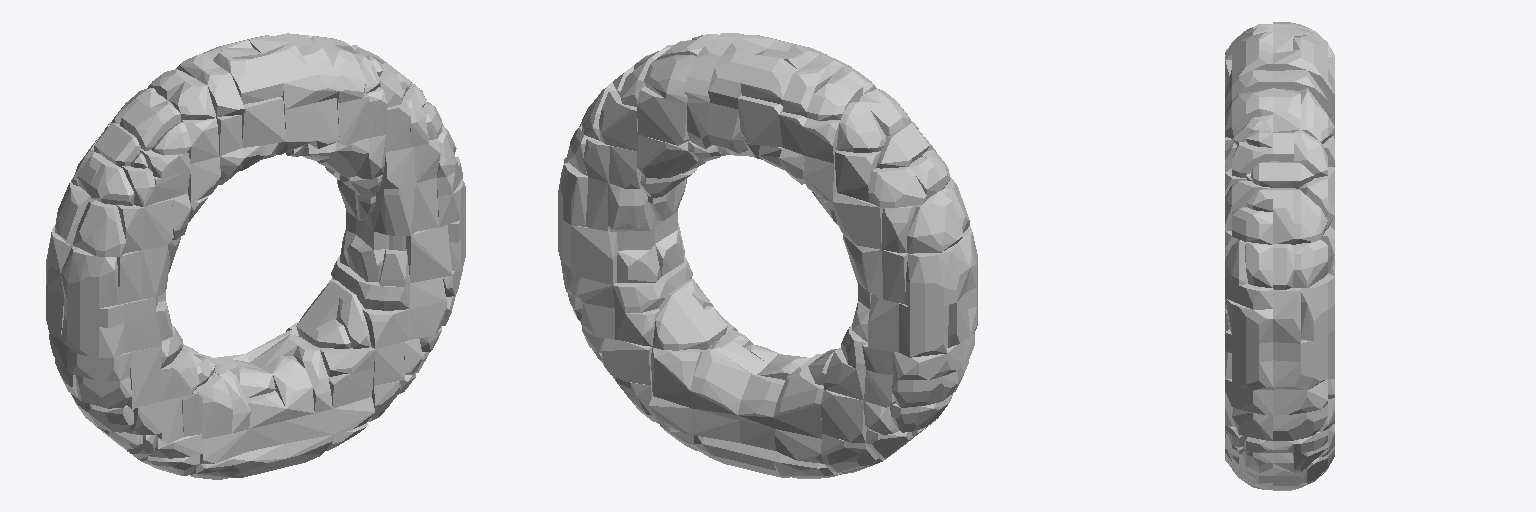
3 views of the same model, side by side, from view 1: azimuth 30°, elevation 25°; view 2: azimuth 150°, elevation 25°; view 3: azimuth 270°, elevation 25° (orthographic).
Visible parts, largest first — view 1: rings/torus131, rings/torus133, rings/torus001, rings/torus225, rings/torus077, rings/torus211, rings/torus002, rings/torus045, rings/torus000, rings/torus031, rings/torus103, rings/torus040 (+28 smaller); view 2: rings/torus127, rings/torus073, rings/torus027, rings/torus129, rings/torus041, rings/torus121, rings/torus075, rings/torus213, rings/torus097, rings/torus207, rings/torus137, rings/torus143 (+28 smaller); view 3: rings/torus229, rings/torus123, rings/torus233, rings/torus230, rings/torus219, rings/torus231, rings/torus239, rings/torus207, rings/torus116, rings/torus247, rings/torus115, rings/torus125 (+23 smaller).
Boxes of the visible parts, x1=… form: rings/torus131: x1=61, y1=246, x2=118, y2=307; rings/torus133: x1=73, y1=199, x2=125, y2=256; rings/torus001: x1=406, y1=225, x2=452, y2=282; rings/torus225: x1=365, y1=183, x2=415, y2=235; rings/torus077: x1=263, y1=356, x2=314, y2=420; rings/torus211: x1=263, y1=43, x2=315, y2=109; rings/torus002: x1=242, y1=96, x2=285, y2=147; rings/torus045: x1=61, y1=316, x2=124, y2=357; rings/torus000: x1=127, y1=346, x2=161, y2=408; rings/torus031: x1=195, y1=372, x2=232, y2=439; rings/torus103: x1=363, y1=308, x2=409, y2=349; rings/torus040: x1=67, y1=347, x2=130, y2=381; rings/torus127: x1=905, y1=242, x2=969, y2=307; rings/torus073: x1=690, y1=349, x2=751, y2=420; rings/torus027: x1=773, y1=371, x2=823, y2=438; rings/torus129: x1=907, y1=191, x2=963, y2=253; rings/torus041: x1=899, y1=303, x2=948, y2=357; rings/torus121: x1=571, y1=225, x2=617, y2=284; rings/torus075: x1=651, y1=348, x2=703, y2=407; rings/torus213: x1=637, y1=87, x2=688, y2=145; rings/torus097: x1=652, y1=292, x2=710, y2=350; rings/torus207: x1=708, y1=38, x2=767, y2=108; rings/torus137: x1=833, y1=193, x2=882, y2=249; rings/torus143: x1=868, y1=167, x2=926, y2=207; rings/torus229: x1=1301, y1=273, x2=1334, y2=340; rings/torus123: x1=1273, y1=354, x2=1327, y2=390; rings/torus233: x1=1225, y1=298, x2=1272, y2=343; rings/torus230: x1=1273, y1=288, x2=1300, y2=343; rings/torus219: x1=1225, y1=88, x2=1272, y2=138; rings/torus231: x1=1292, y1=240, x2=1327, y2=287; rings/torus239: x1=1293, y1=188, x2=1327, y2=244; rings/torus207: x1=1273, y1=49, x2=1334, y2=104; rings/torus116: x1=1273, y1=379, x2=1327, y2=414; rings/torus247: x1=1232, y1=207, x2=1272, y2=244; rings/torus115: x1=1273, y1=404, x2=1327, y2=440; rings/torus125: x1=1232, y1=354, x2=1272, y2=390.
Bounding box in the file's own units: 0.0498 × 0.0498 × 0.0119.